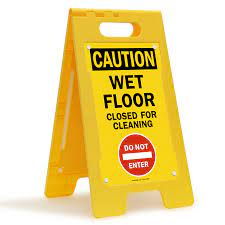wet caution sign: (48, 6, 193, 207)
